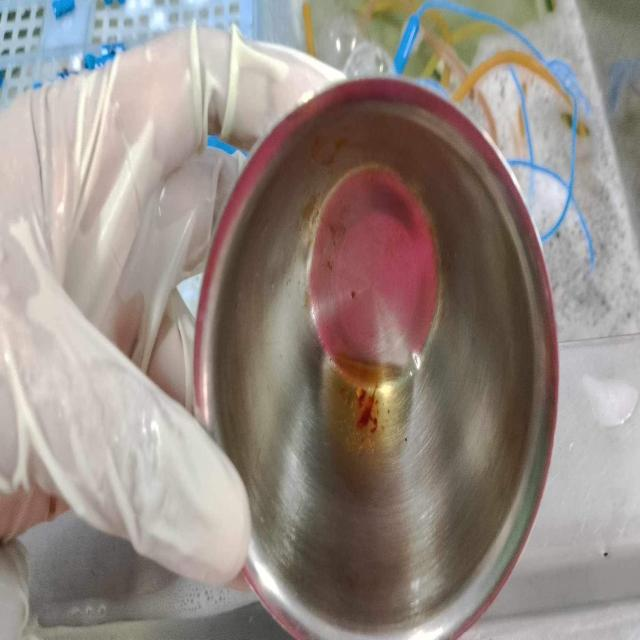General: (190, 73, 561, 636)
Infectious: (0, 21, 348, 588)
